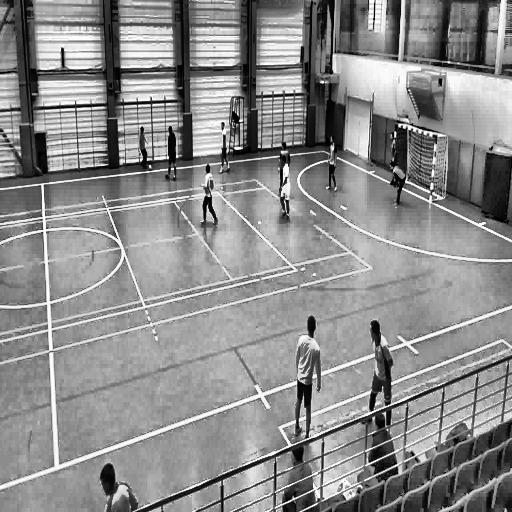ball: (147, 161, 154, 174)
